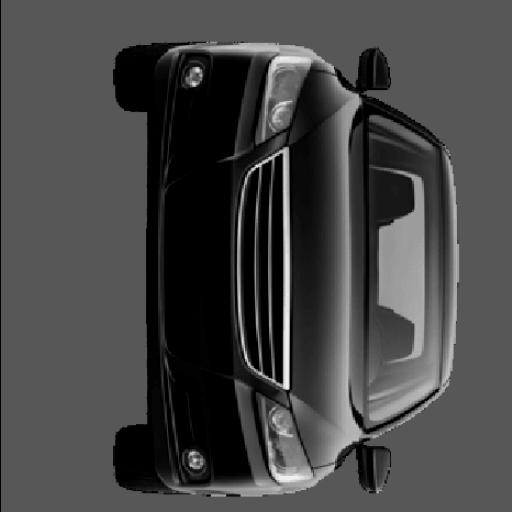sedan: (116, 43, 457, 492)
